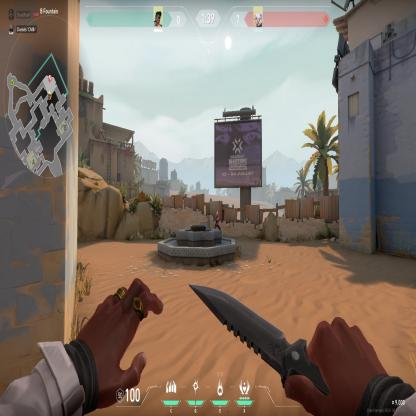enemy: (214, 211, 221, 231)
